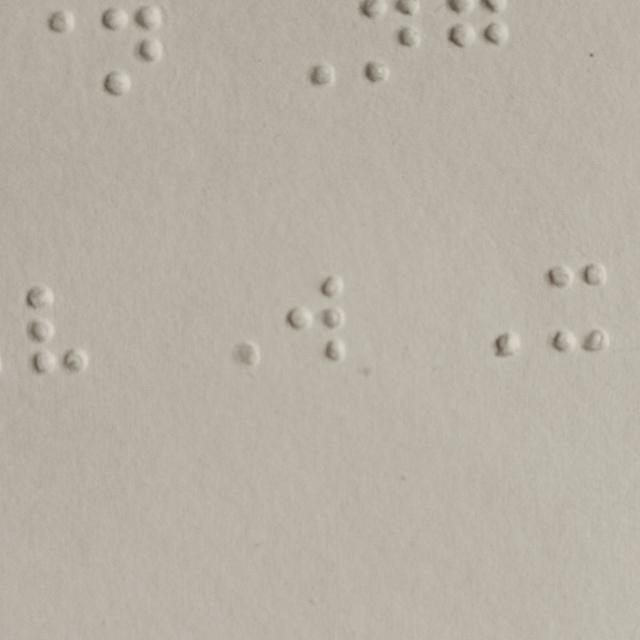W: (285, 273, 347, 364)
X: (545, 261, 608, 352)
capital: (201, 279, 263, 370), (459, 268, 521, 359), (277, 0, 339, 91)
v: (25, 284, 90, 376)
